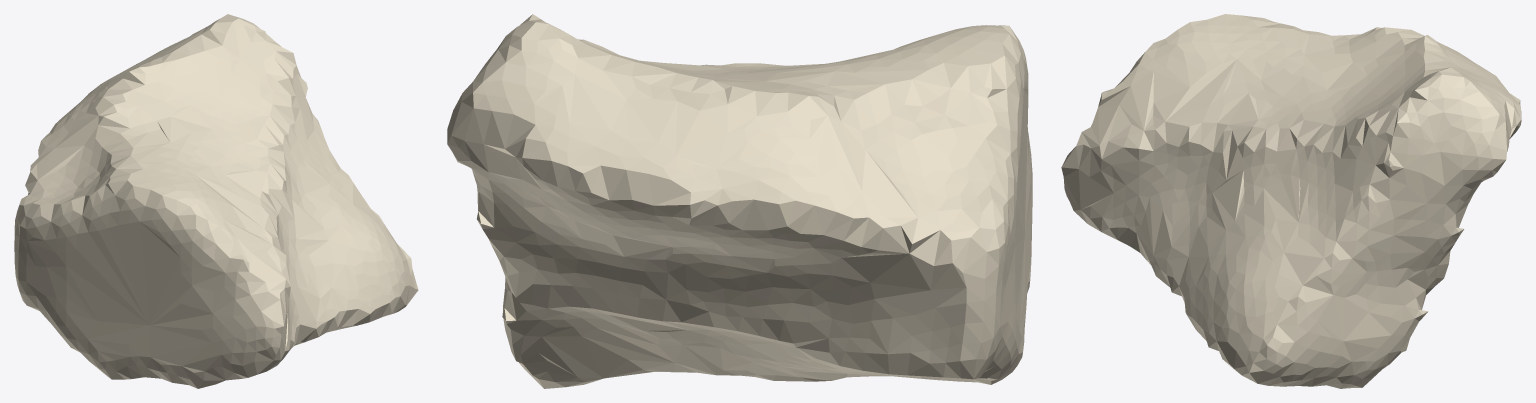
Rendered from Model_10077_LH__Auditory_cortex__caudolateral_area_(AuCL).obj.
The picture shows the model from 3 angles, left to right: view 1: azimuth 30°, elevation 25°; view 2: azimuth 150°, elevation 25°; view 3: azimuth 270°, elevation 25°; orthographic projection. The views are drawn at different scales.
Bounding box in the file's own units: 2.44 × 1.8 × 2.53.
